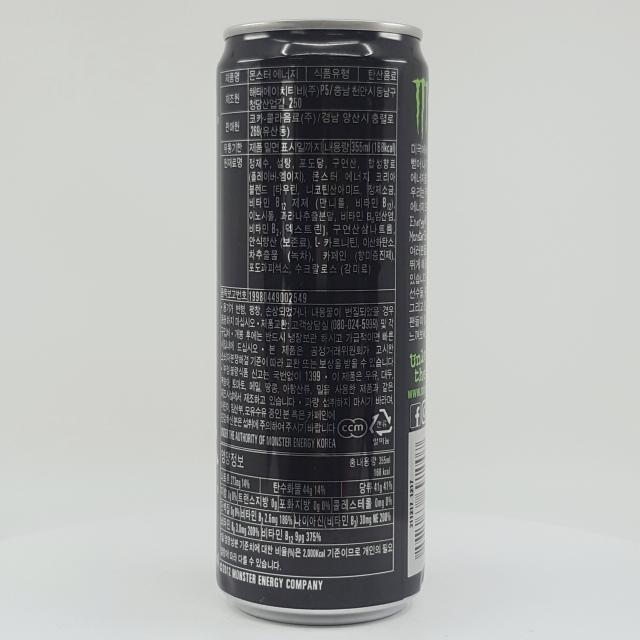--------355ML: (216, 19, 428, 625)
